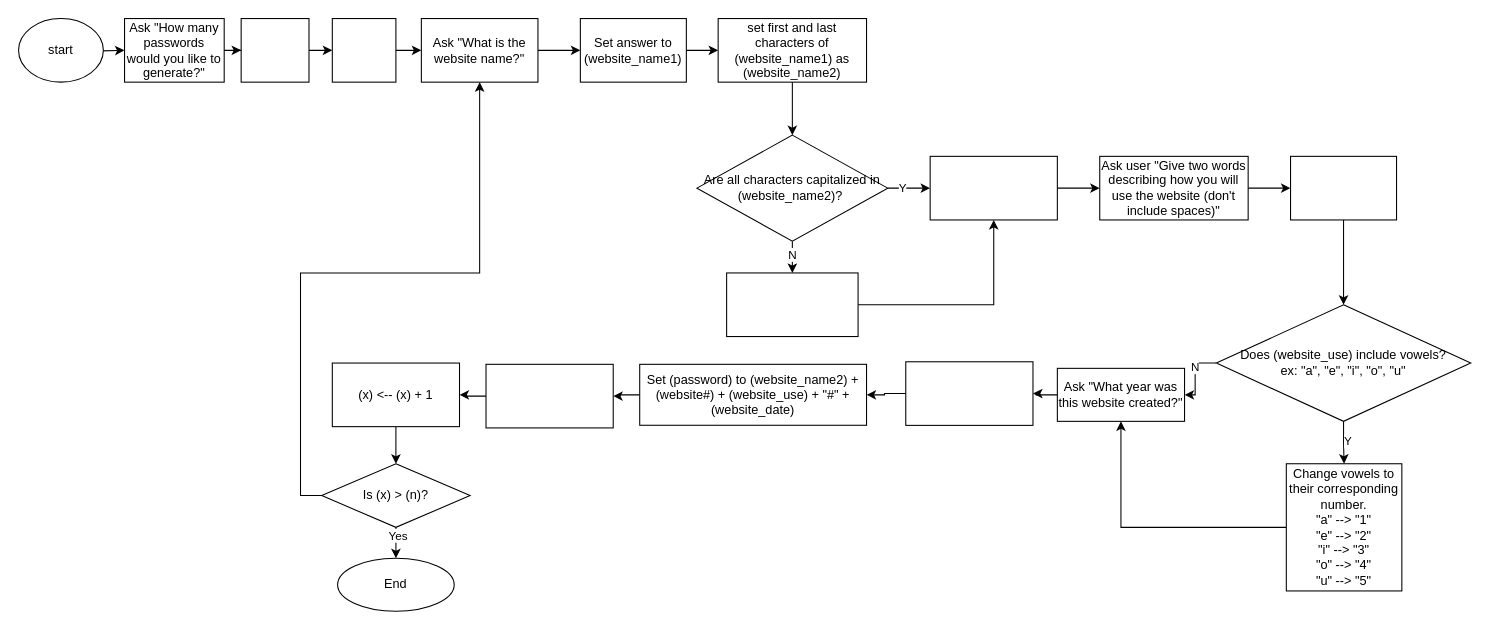
This 1489x631 diagram has some shape labels left out. Each missing label, with the centre of its shape:
Capitalize (website_name2): pixel 792 304
Say " Here is your new "(password) "!": pixel 549 395
Set (website#) to the number of characters in (website_name2): pixel 993 187
Set (website_date) to the last two characters of answer: pixel 969 393
Set (x) = 0: pixel 363 49
set answer to (n): pixel 274 49
Set answer to (website_use): pixel 1343 187
